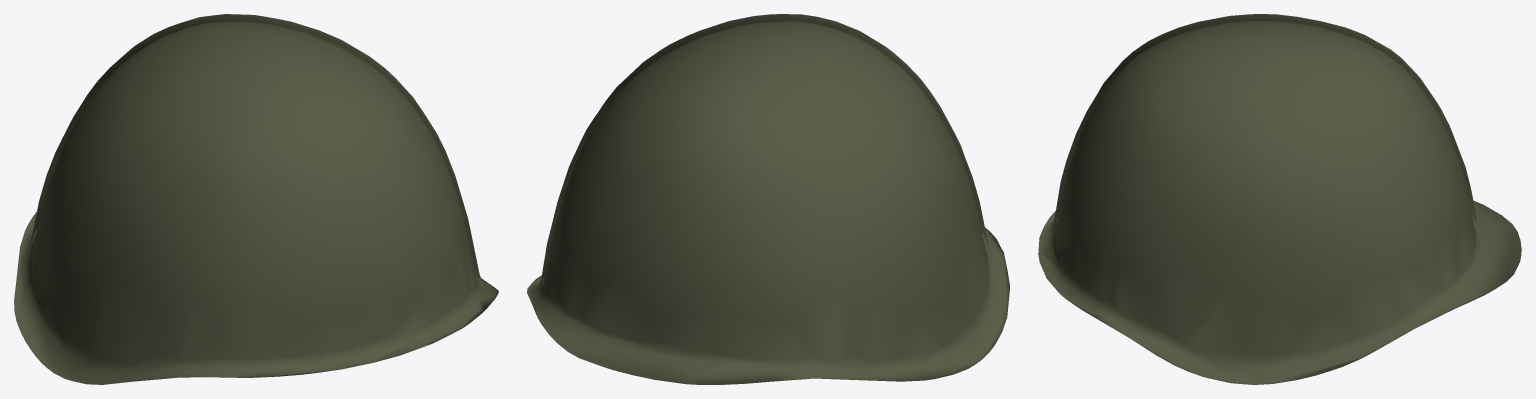
File: helmet_a.glb
The picture shows the model from 3 angles, left to right: view 1: azimuth 30°, elevation 25°; view 2: azimuth 150°, elevation 25°; view 3: azimuth 270°, elevation 25°; orthographic projection. The views are drawn at different scales.
Parts seen in each view (by area): view 1: helmet_a; view 2: helmet_a; view 3: helmet_a.
Boxes of the visible parts, x1=… form: helmet_a: x1=14, y1=14, x2=498, y2=384; helmet_a: x1=527, y1=14, x2=1009, y2=384; helmet_a: x1=1038, y1=14, x2=1521, y2=384.
Size of the model in its own units: 0.3099 by 0.1974 by 0.3339.
